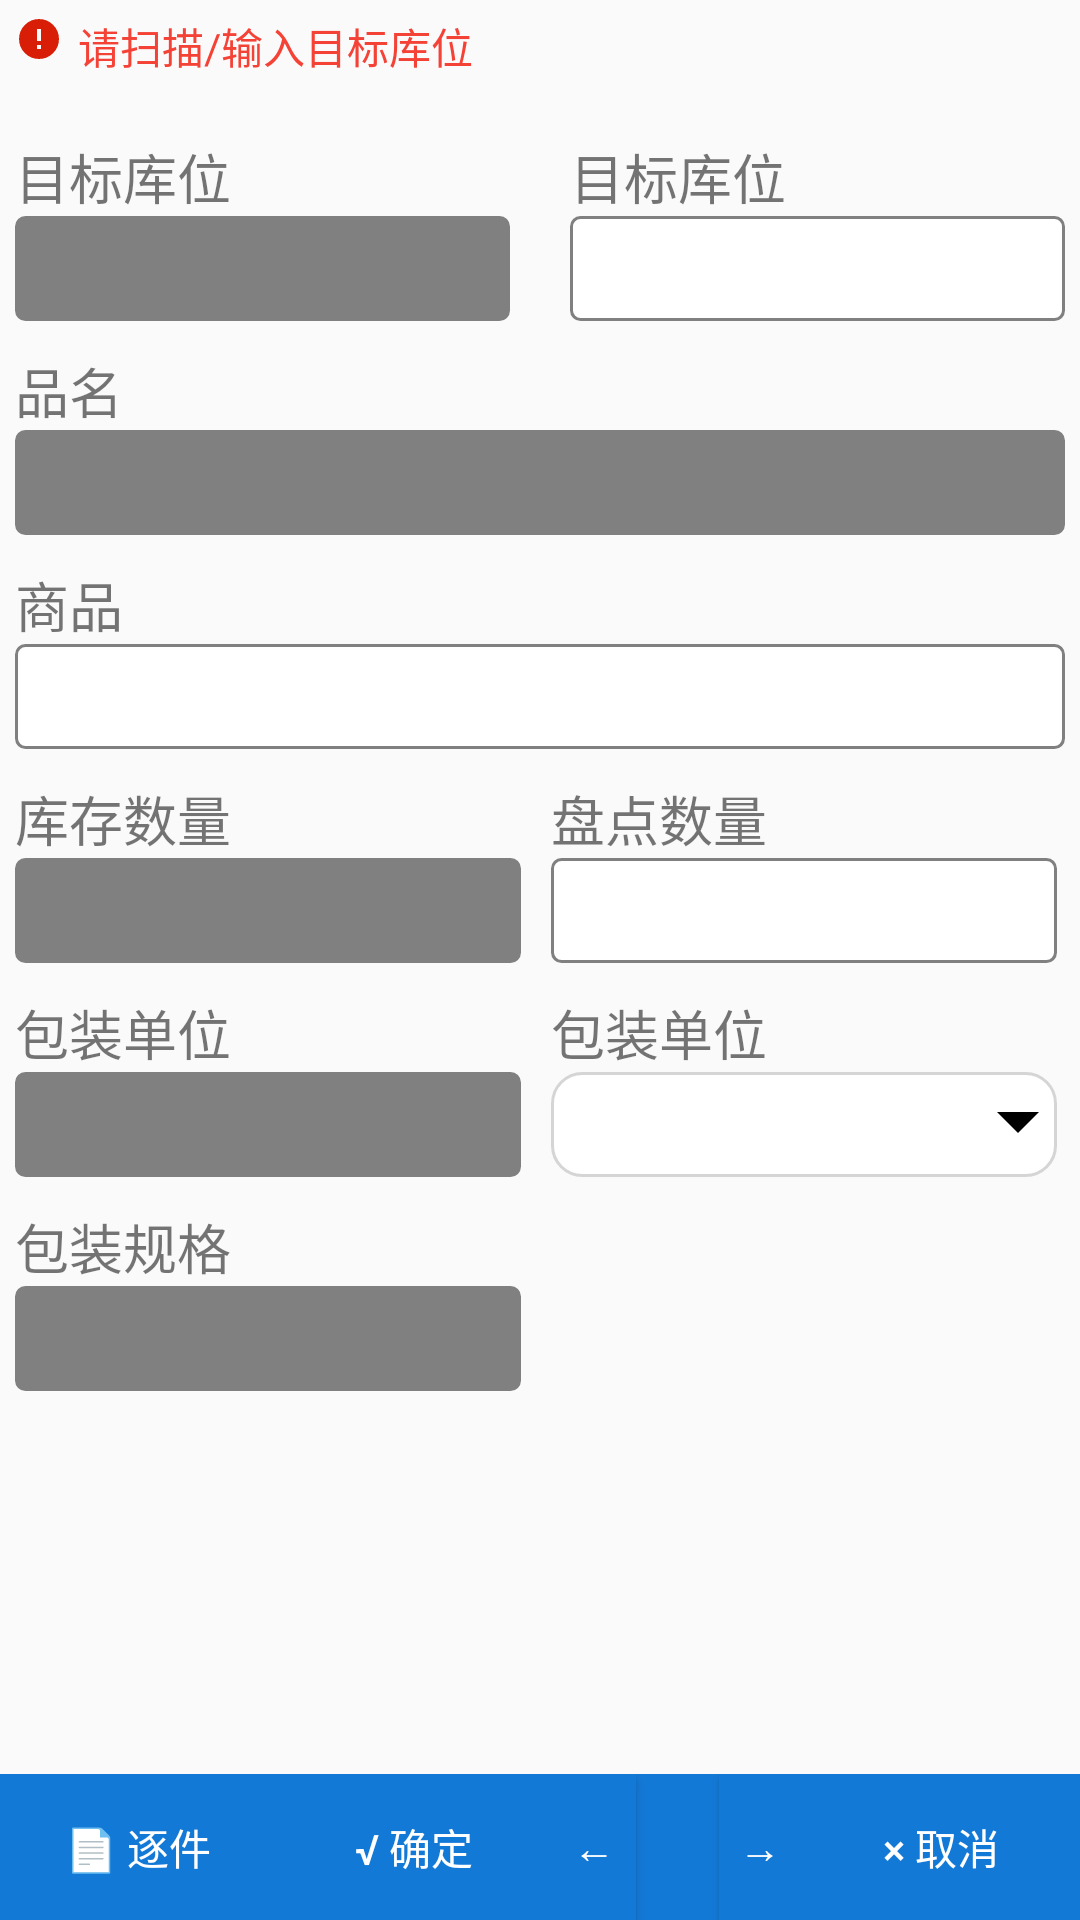

Point at icon controls on the screen. Image size 1080w x 1920h, points as (x,y).
error: (39,39)
